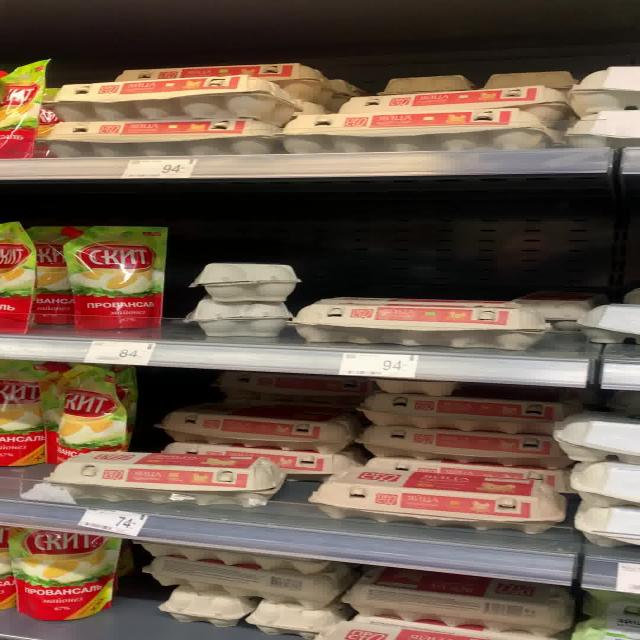egg box: (310, 454, 566, 532), (346, 561, 577, 638), (287, 293, 562, 352), (50, 444, 286, 503), (348, 418, 573, 472), (54, 220, 168, 325), (43, 77, 305, 121), (154, 395, 366, 449), (284, 109, 566, 148), (358, 384, 571, 432), (6, 528, 120, 615), (327, 89, 570, 121), (46, 119, 270, 150), (2, 361, 63, 460), (57, 365, 118, 462), (0, 215, 40, 325), (5, 59, 37, 153)
